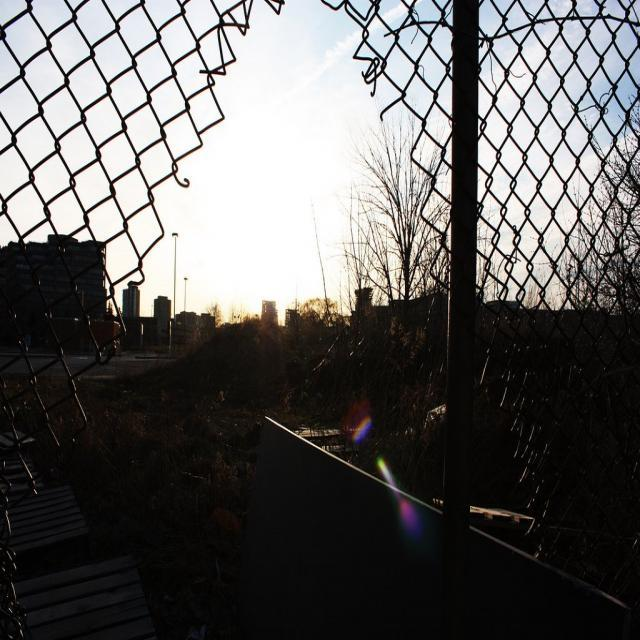fence line: (5, 5, 571, 634)
